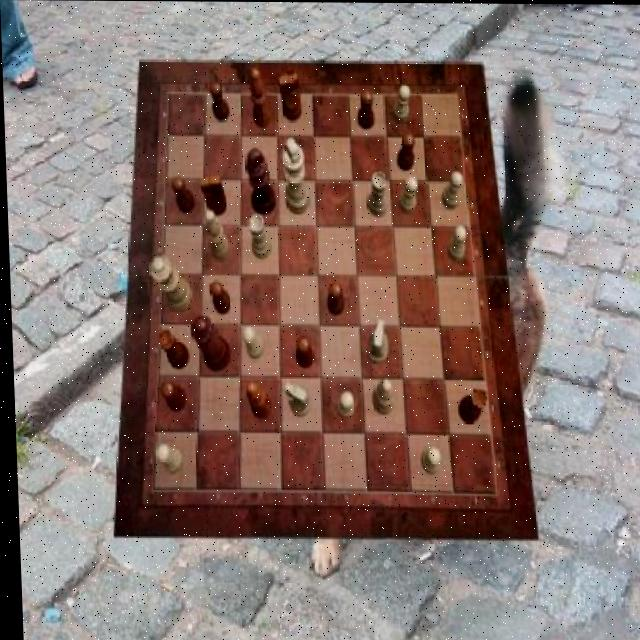bishop: (249, 69, 272, 128), (243, 380, 269, 418)
black-bishop: (244, 147, 274, 214)
black-king: (278, 73, 302, 122), (198, 175, 226, 215)
black-knight: (170, 176, 194, 213), (157, 381, 183, 412), (208, 81, 228, 121), (395, 133, 415, 171), (207, 280, 228, 314), (355, 90, 373, 128), (293, 335, 312, 368), (323, 280, 341, 314)
black-pawn: (186, 313, 228, 371)
black-queen: (154, 328, 186, 369), (454, 387, 485, 423)
black-rook: (203, 210, 228, 261), (367, 378, 391, 414)
white-bishop: (280, 137, 309, 213)
white-king: (362, 321, 386, 365), (280, 380, 306, 416)
white-knight: (439, 172, 463, 209), (152, 442, 180, 473), (443, 224, 465, 262), (396, 176, 417, 214), (391, 86, 411, 124), (239, 326, 261, 359), (416, 447, 437, 475), (334, 391, 354, 419)
white-pawn: (147, 256, 191, 313)
white-queen: (247, 214, 271, 259), (364, 171, 386, 217)
